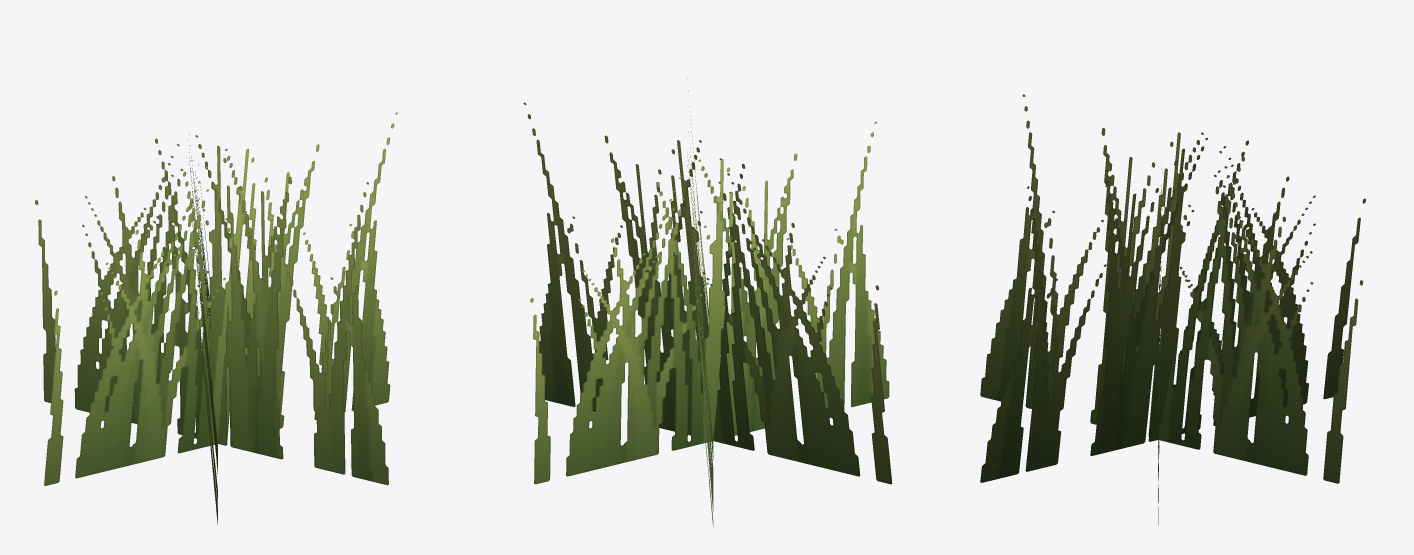
Rendered from grass.glb.
3 renders of one model, left to right at view 1: azimuth 30°, elevation 25°; view 2: azimuth 150°, elevation 25°; view 3: azimuth 270°, elevation 25°, orthographic. The views are drawn at different scales.
Parts seen in each view (by area): view 1: grass; view 2: grass; view 3: grass.
Part boxes in pixels (box(x1,y1,x2,y2)): grass: box(35, 112, 397, 525); grass: box(523, 78, 892, 526); grass: box(980, 94, 1365, 525).
Bounding box in the file's own units: 0.7545 × 0.55 × 0.657.
Materials: 1 (1 with a texture image).
